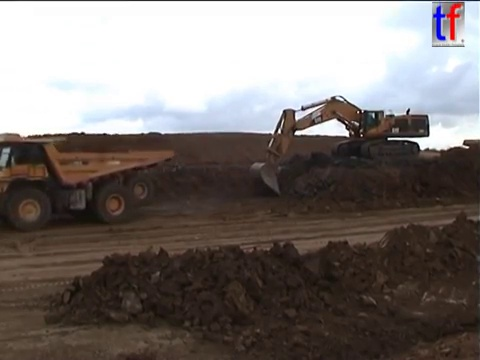excavator: (246, 93, 432, 196)
truck: (1, 132, 147, 230), (10, 135, 175, 211), (460, 137, 480, 156)
